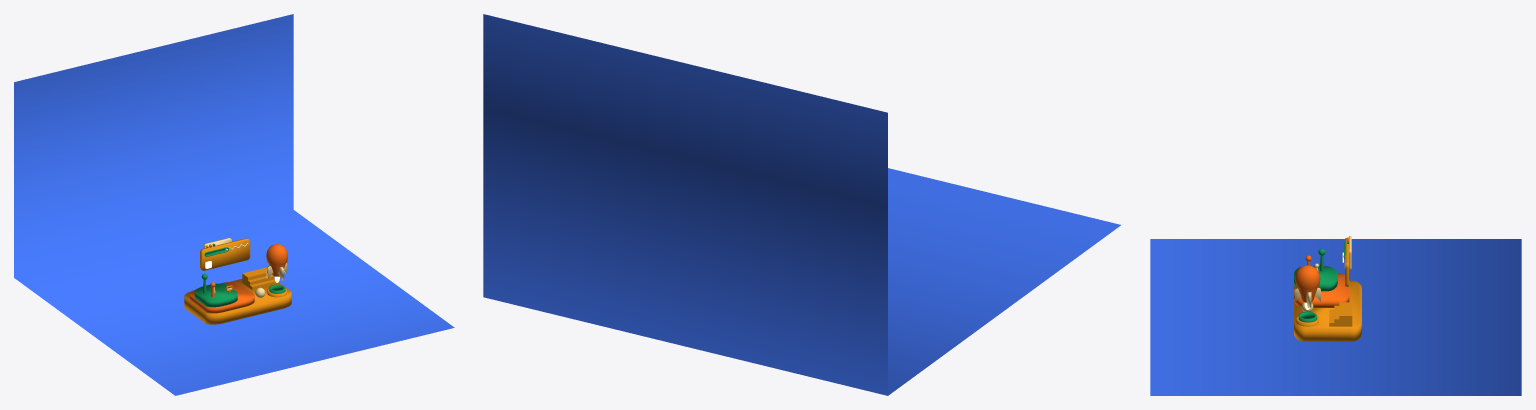
Rendered from testModel.glb.
3 renders of one model, left to right at view 1: azimuth 30°, elevation 25°; view 2: azimuth 150°, elevation 25°; view 3: azimuth 270°, elevation 25°, orthographic. The views are drawn at different scales.
Visible parts, largest first — view 1: Plane, Cube, Cube.007, Cube.001, Cube.002, Cube.012, Cylinder.011; view 2: Plane; view 3: Plane, Cube, Cube.001, Cube.012, Cylinder.011, Cube.002.
Part boxes in pixels (x1,y1,x2,y2): Plane: (14,14,454,395); Cube: (184,279,291,324); Cube.007: (200,238,250,270); Cube.001: (189,282,254,313); Cube.002: (194,283,237,307); Cube.012: (242,267,276,289); Cylinder.011: (266,244,287,265); Plane: (483,14,1120,395); Plane: (1150,239,1521,395); Cube: (1294,280,1361,341); Cube.001: (1294,273,1349,307); Cube.012: (1329,302,1352,326); Cylinder.011: (1295,265,1320,289); Cube.002: (1294,266,1337,291).
Bounding box in the file's own units: 32.5 × 21.75 × 32.5.
